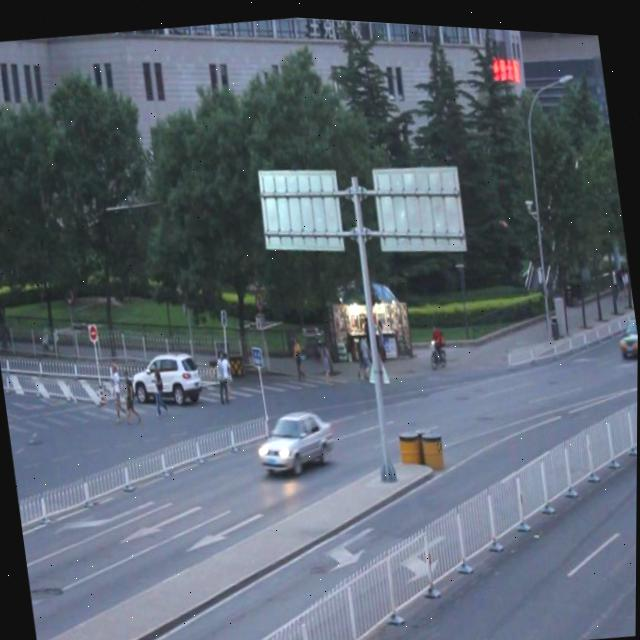car: (254, 400, 340, 476), (129, 345, 205, 409), (615, 304, 638, 355)
